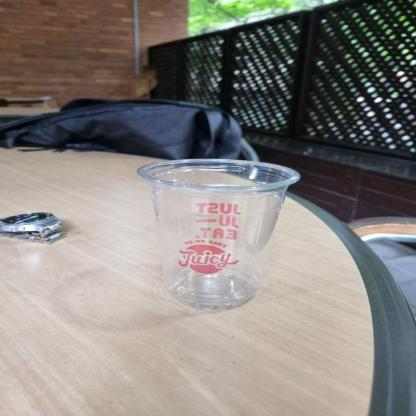Plastic Cup: (131, 156, 308, 312)
